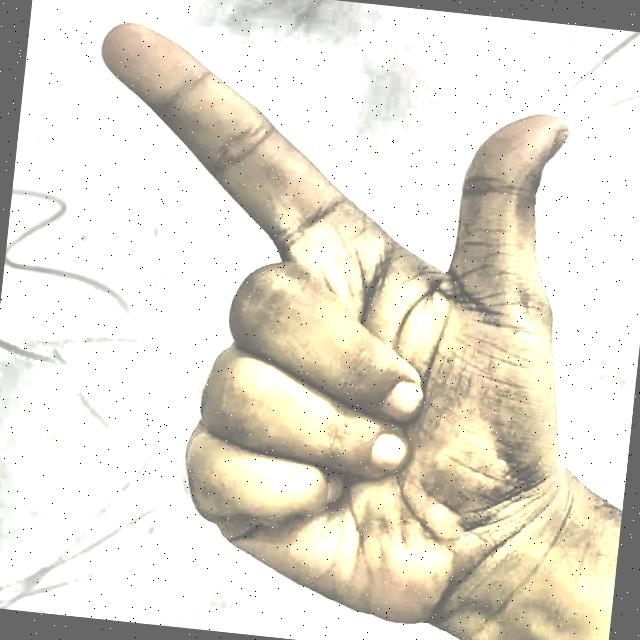Tha: (18, 0, 621, 640)
